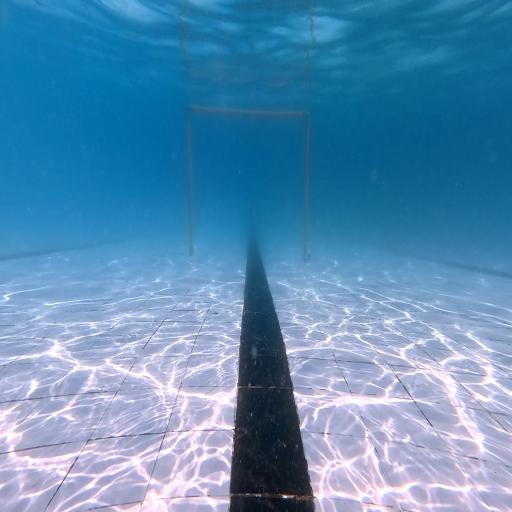gate: (186, 106, 311, 261)
